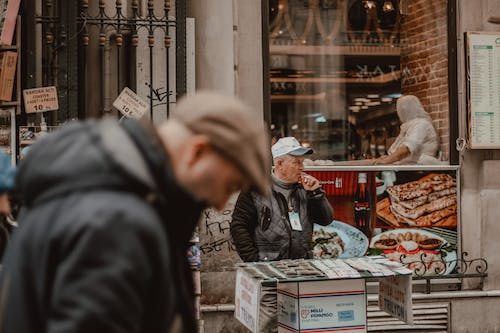cigarette: (302, 174, 311, 180)
